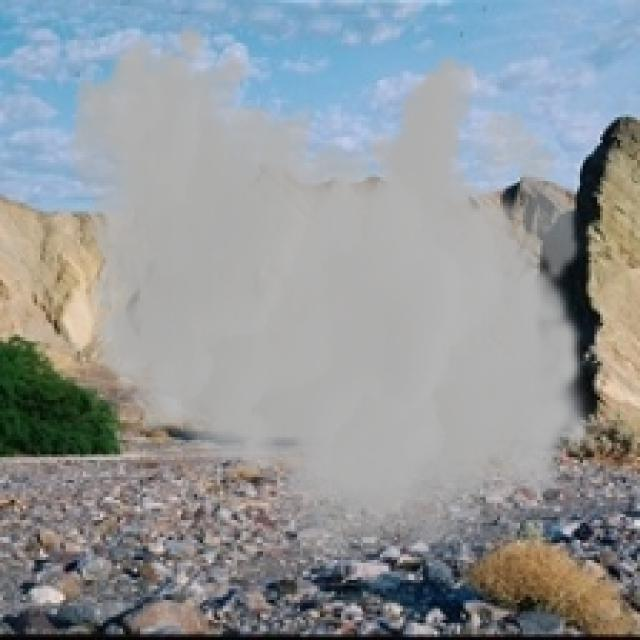Smoke: (65, 17, 598, 580)
